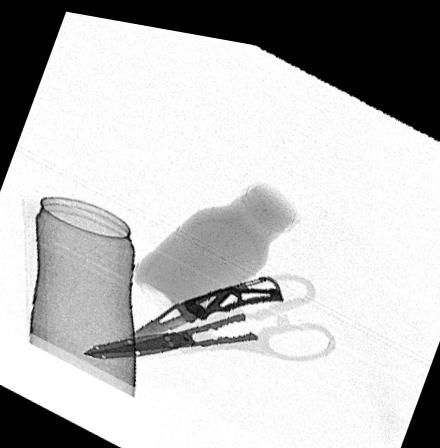Knife: (125, 264, 281, 331)
Scissors: (82, 260, 338, 354)
